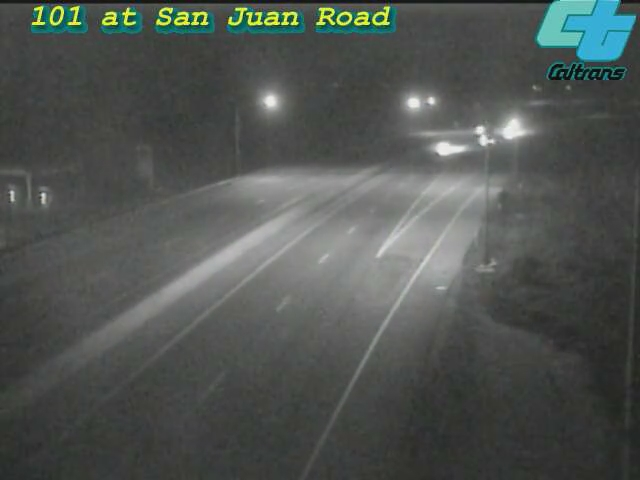vehicle: (452, 103, 502, 153), (487, 99, 537, 149), (482, 108, 532, 158), (461, 115, 511, 165), (419, 124, 469, 174)
